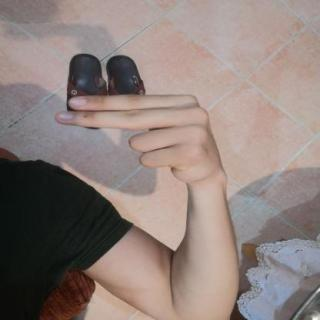AYN: (41, 84, 234, 194)
